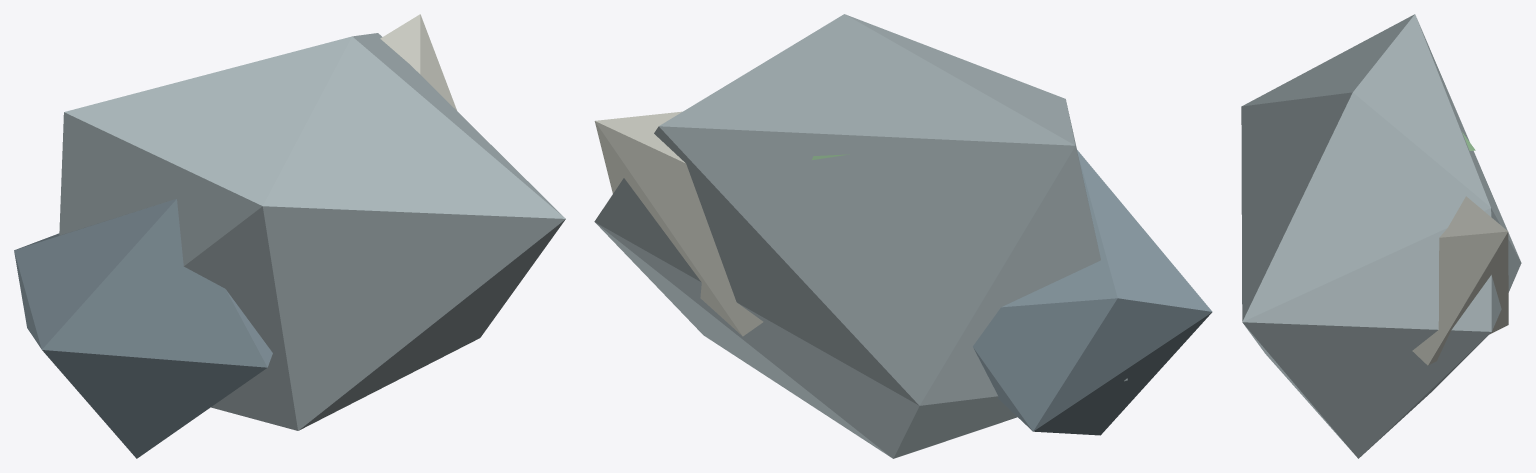
File: rock_cluster_lod2.glb
3 views of the same model, side by side, from view 1: azimuth 30°, elevation 25°; view 2: azimuth 150°, elevation 25°; view 3: azimuth 270°, elevation 25° (orthographic). The views are drawn at different scales.
Visible parts, largest first — view 1: Main weathered stone.001; view 2: Main weathered stone.001; view 3: Main weathered stone.001.
Part boxes in pixels (x1,y1,x2,y2): Main weathered stone.001: [14, 14, 565, 458]; Main weathered stone.001: [594, 14, 1212, 458]; Main weathered stone.001: [1241, 14, 1521, 458].
Bounding box in the file's own units: 1.73 × 1.21 × 0.9087.
